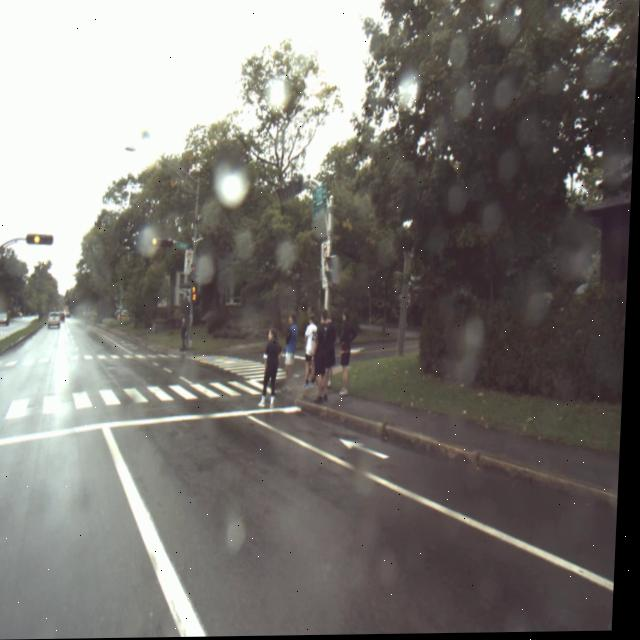car: (51, 311, 65, 330), (0, 311, 13, 327)
pedestrian: (316, 310, 339, 404), (262, 329, 285, 413), (341, 309, 360, 397), (286, 313, 302, 397), (305, 316, 322, 389), (183, 316, 192, 353)
trafficLight: (278, 177, 305, 203), (193, 286, 201, 307), (33, 234, 45, 245), (154, 237, 160, 249)
trafficLight-Red: (192, 262, 199, 276)
